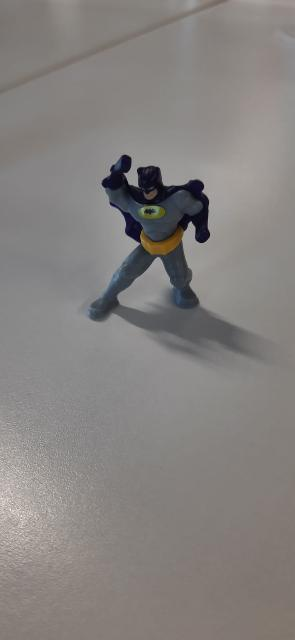Batman: (80, 158, 222, 334)
